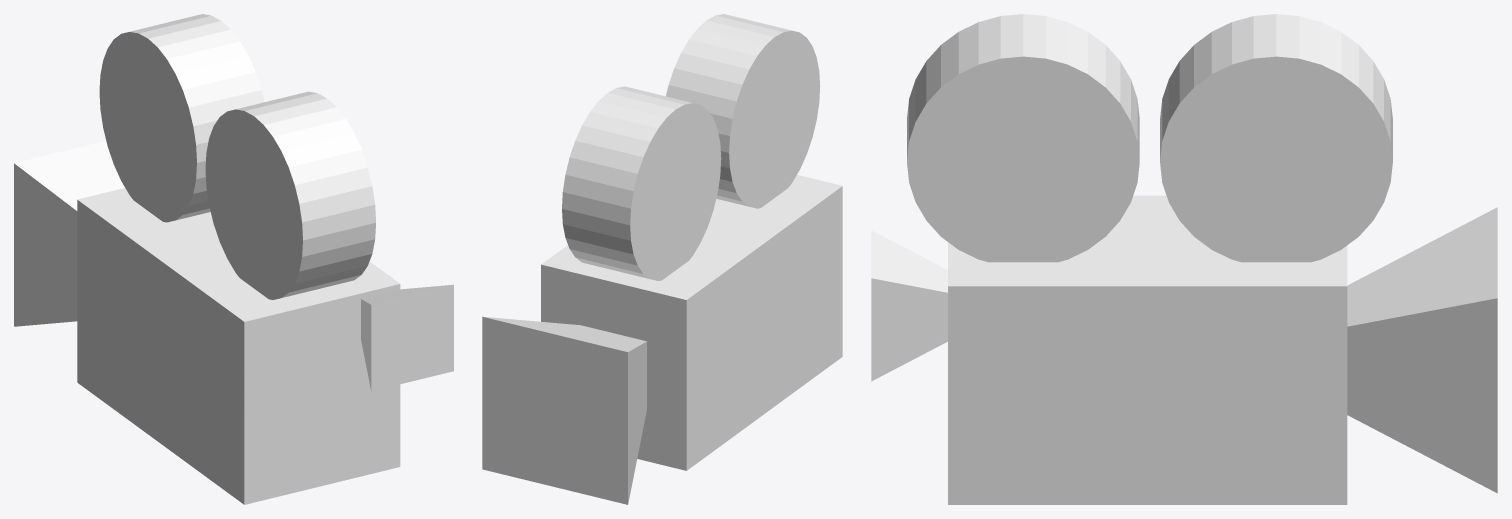
The model's file is camera.obj.
3 views of the same model, side by side, from view 1: azimuth 30°, elevation 25°; view 2: azimuth 150°, elevation 25°; view 3: azimuth 270°, elevation 25° (orthographic). The views are drawn at different scales.
Parts seen in each view (by area): view 1: Body_Cube.001, TapeBack_Cylinder.001, TapeFront_Cylinder, Frustrum_Cube.002, Viewport_Cube.003; view 2: Body_Cube.001, Frustrum_Cube.002, TapeFront_Cylinder, TapeBack_Cylinder.001; view 3: Body_Cube.001, TapeFront_Cylinder, TapeBack_Cylinder.001, Frustrum_Cube.002, Viewport_Cube.003.
Boxes of the visible parts, bbox=[...] form: Body_Cube.001: bbox=[77, 188, 400, 504]; TapeBack_Cylinder.001: bbox=[205, 91, 375, 299]; TapeFront_Cylinder: bbox=[99, 14, 264, 222]; Frustrum_Cube.002: bbox=[14, 141, 124, 326]; Viewport_Cube.003: bbox=[361, 284, 453, 391]; Body_Cube.001: bbox=[541, 174, 842, 470]; Frustrum_Cube.002: bbox=[482, 316, 646, 504]; TapeFront_Cylinder: bbox=[562, 86, 721, 280]; TapeBack_Cylinder.001: bbox=[666, 14, 820, 208]; Body_Cube.001: bbox=[948, 195, 1347, 504]; TapeFront_Cylinder: bbox=[1160, 14, 1392, 262]; TapeBack_Cylinder.001: bbox=[907, 14, 1139, 262]; Frustrum_Cube.002: bbox=[1347, 207, 1497, 493]; Viewport_Cube.003: bbox=[871, 230, 947, 381].
Size of the model in its own units: 0.67 by 1.28 by 1.71.
1 material, 1 textured.
